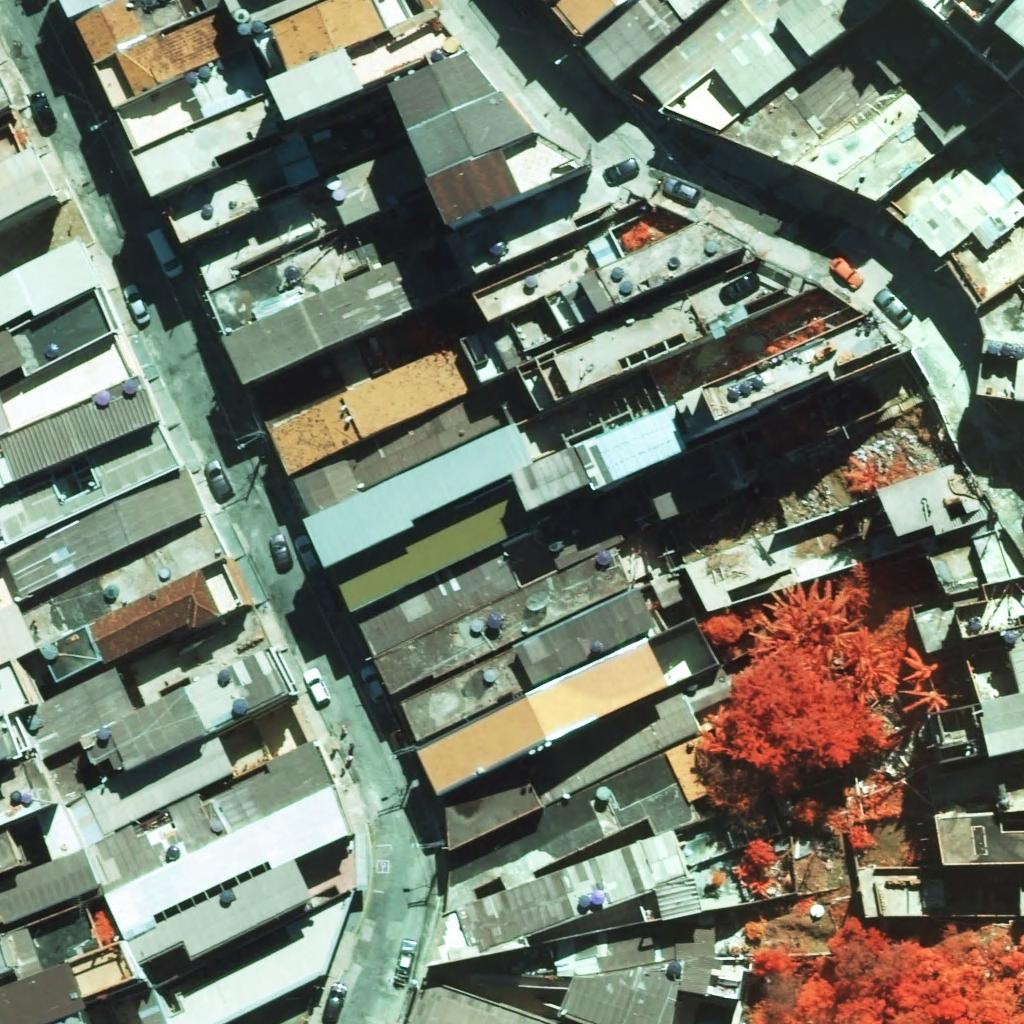pool: (694, 1002, 734, 1024)
